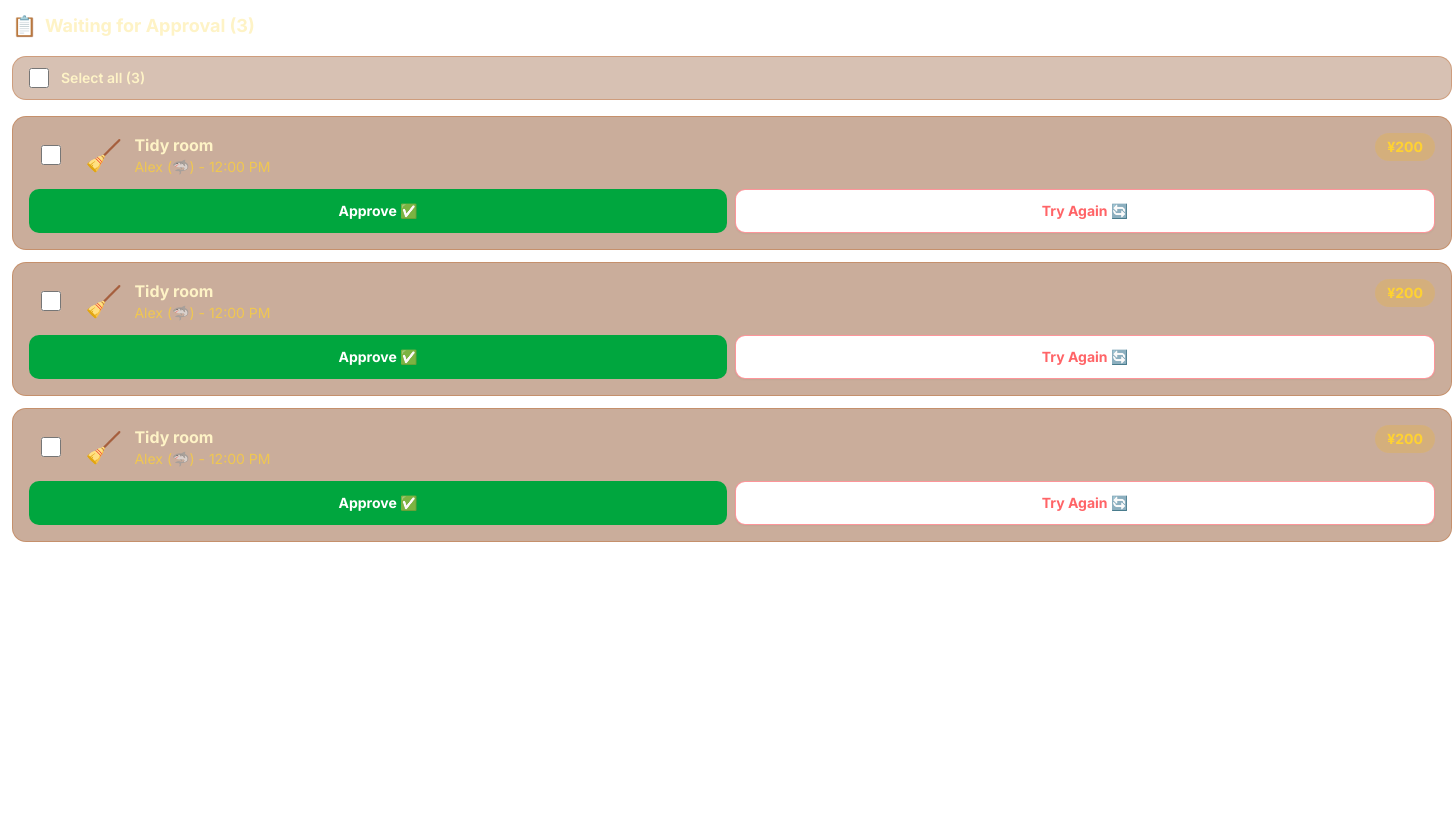
Scenario: ApprovalQueue › Wave 8b — bulk-approve › partial failure: surfaces failed count + highlights failed card + keeps it selected
Click the checkbox with test id "approval-queue-select-all-checkbox": coordinates (39, 78) [29,68,49,88]
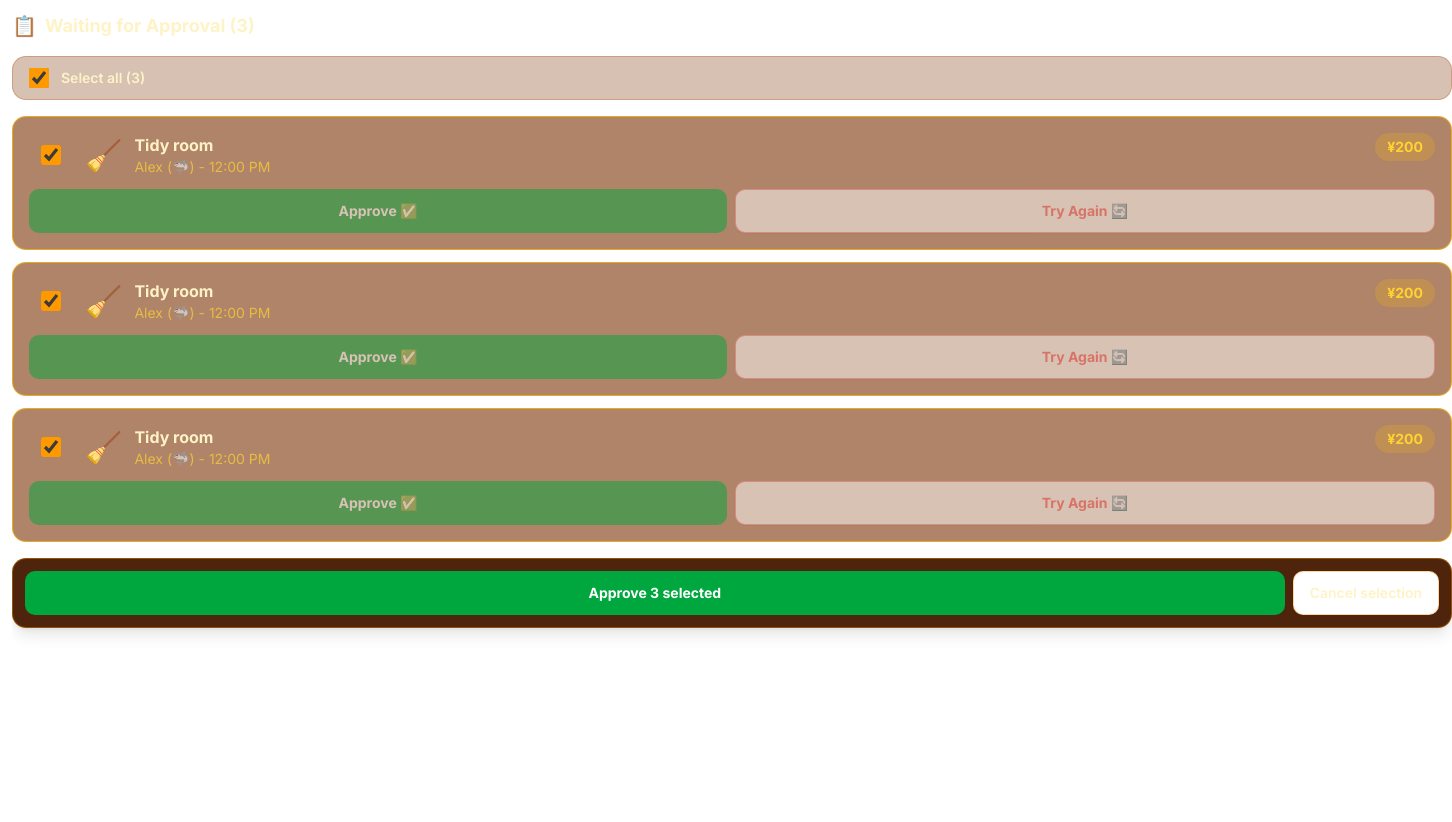
Click the button with test id "approval-queue-bulk-approve": coordinates (655, 593) [25,571,1285,615]
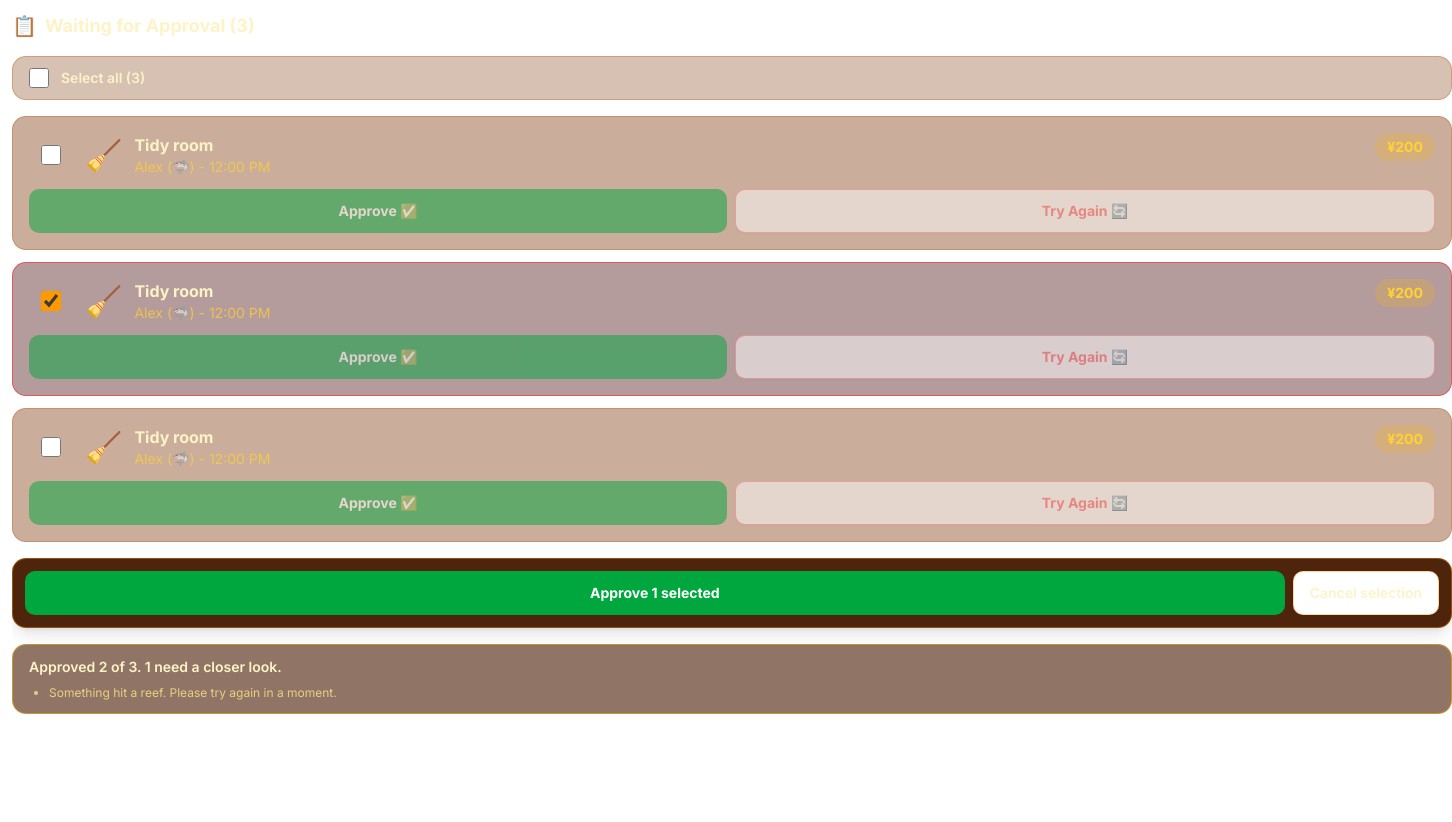
Expected: the 2nd checkbox with test id "approval-card-checkbox" is checked, [41,291,61,311]
Expected: the element with test id "approval-queue-bulk-result" is shown, [12,644,1451,714]
Expected: the element with test id "approval-queue-bulk-result" shows "Approved 2 of 3", [29,658,282,675]
